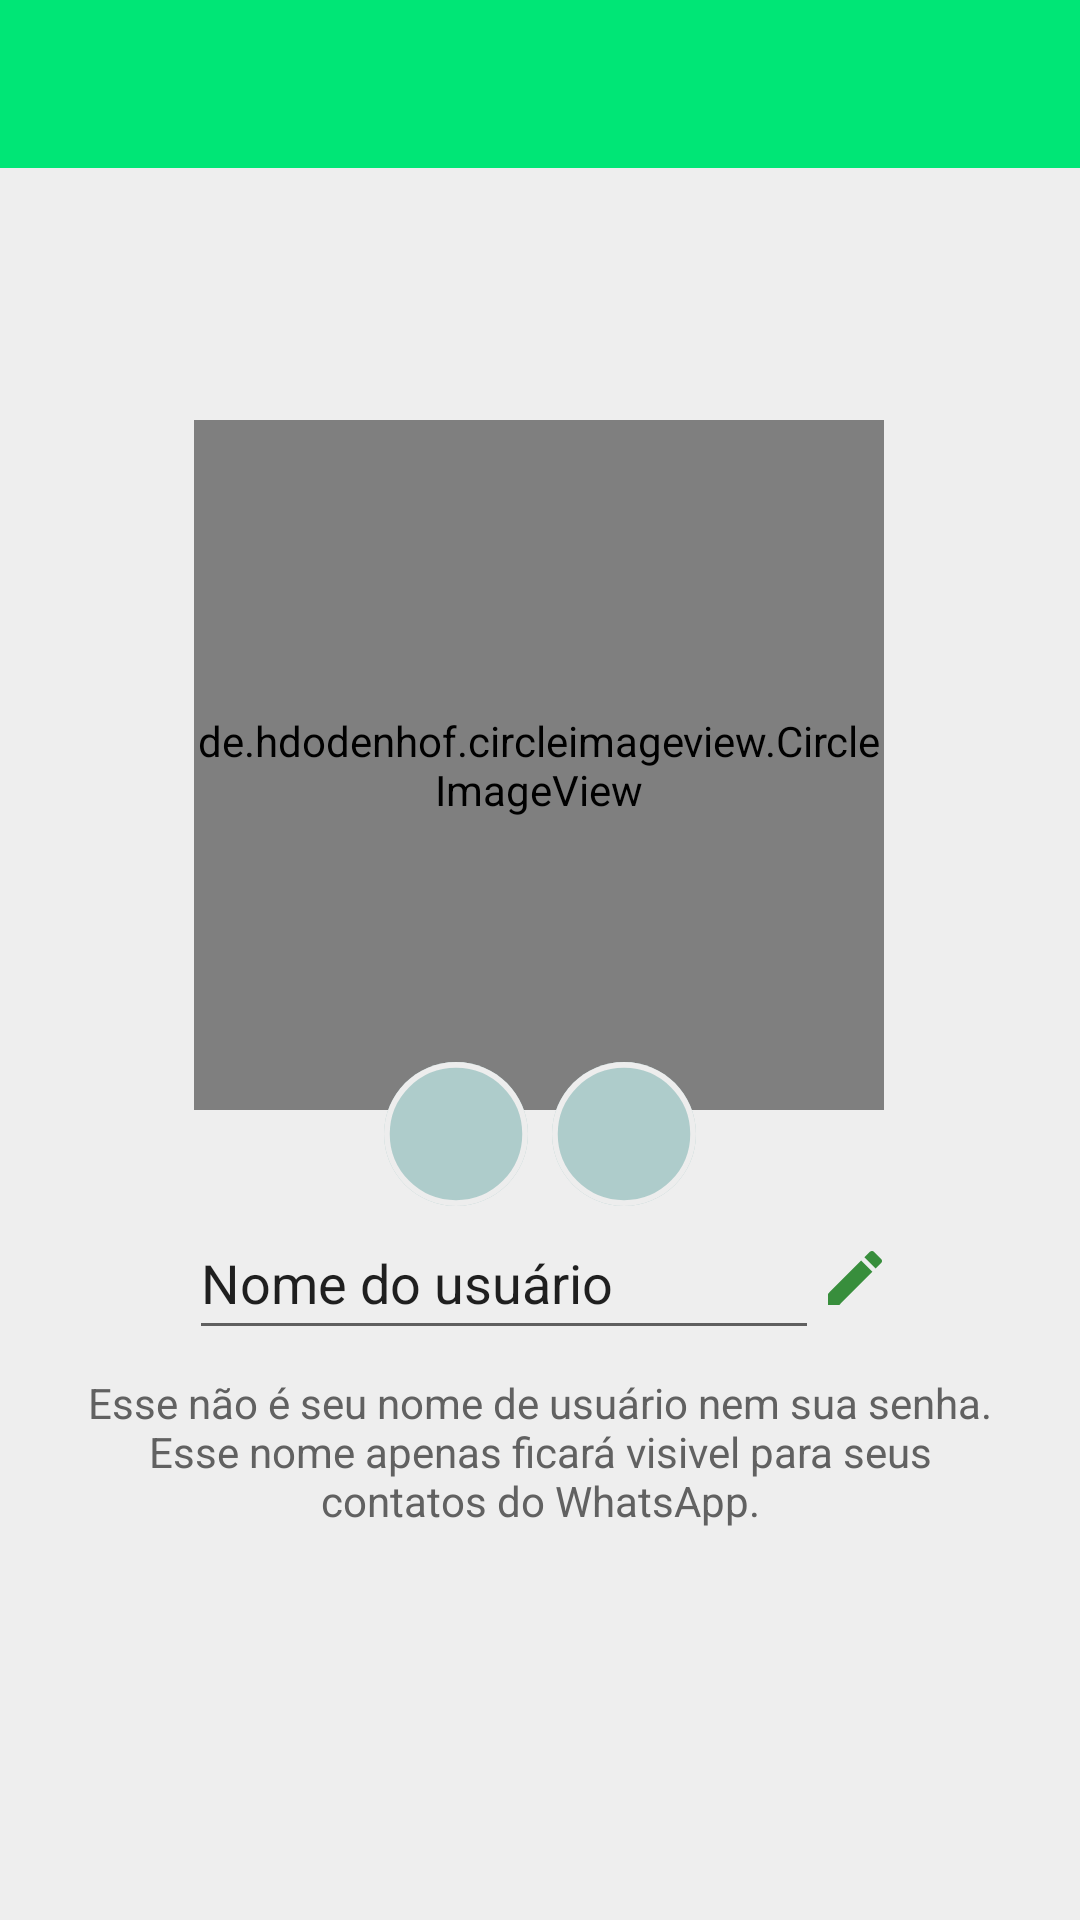

Screen size 1080x1920. Icon name, then its center in pixels as point (x, y):
Alterar nome: point (855, 1278)
